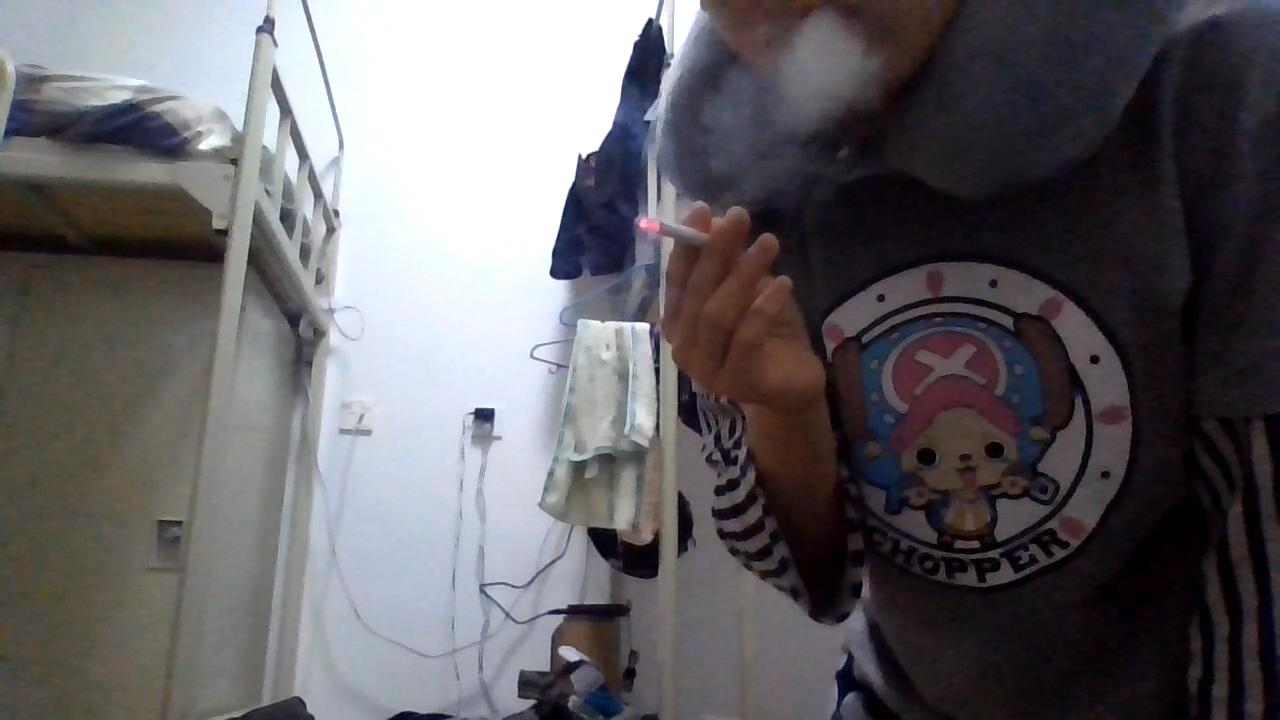yanwu: (694, 21, 874, 180)
